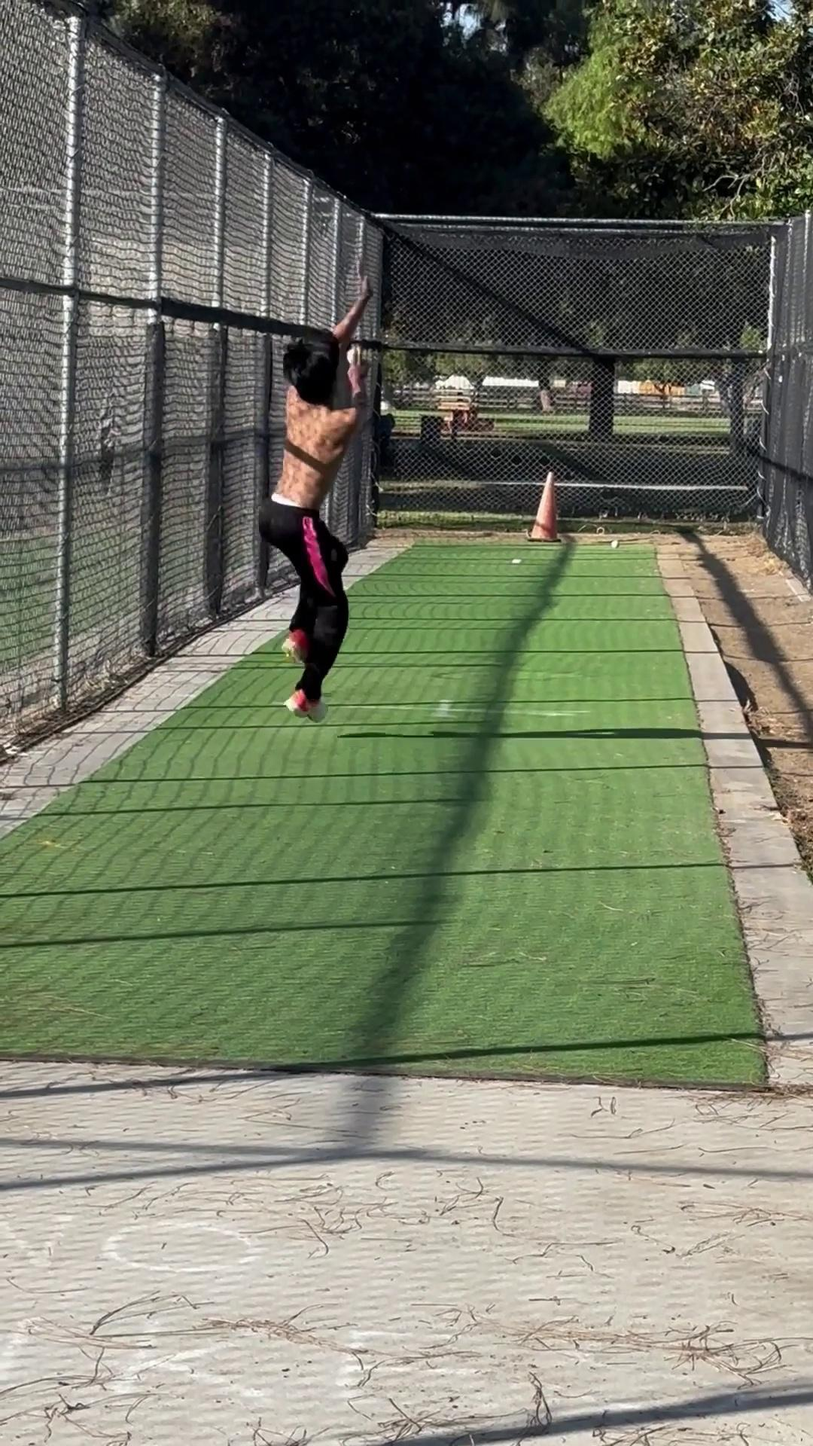ball: (340, 340, 372, 372)
